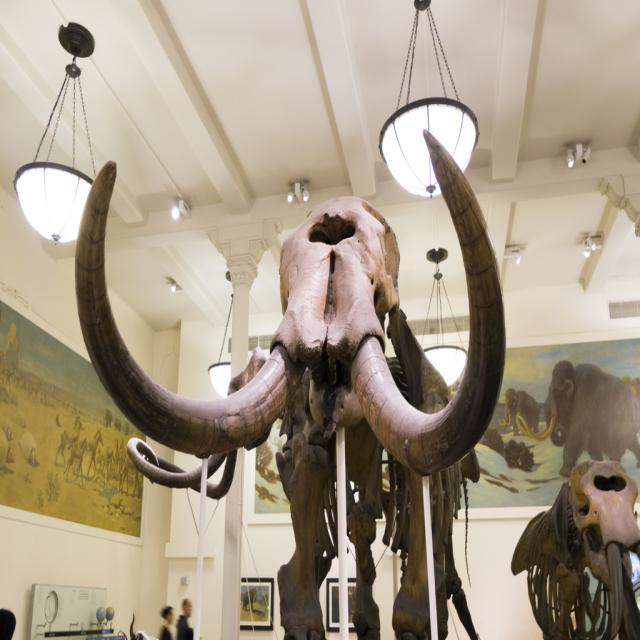Elephant: (515, 360, 639, 477), (500, 387, 541, 442)
